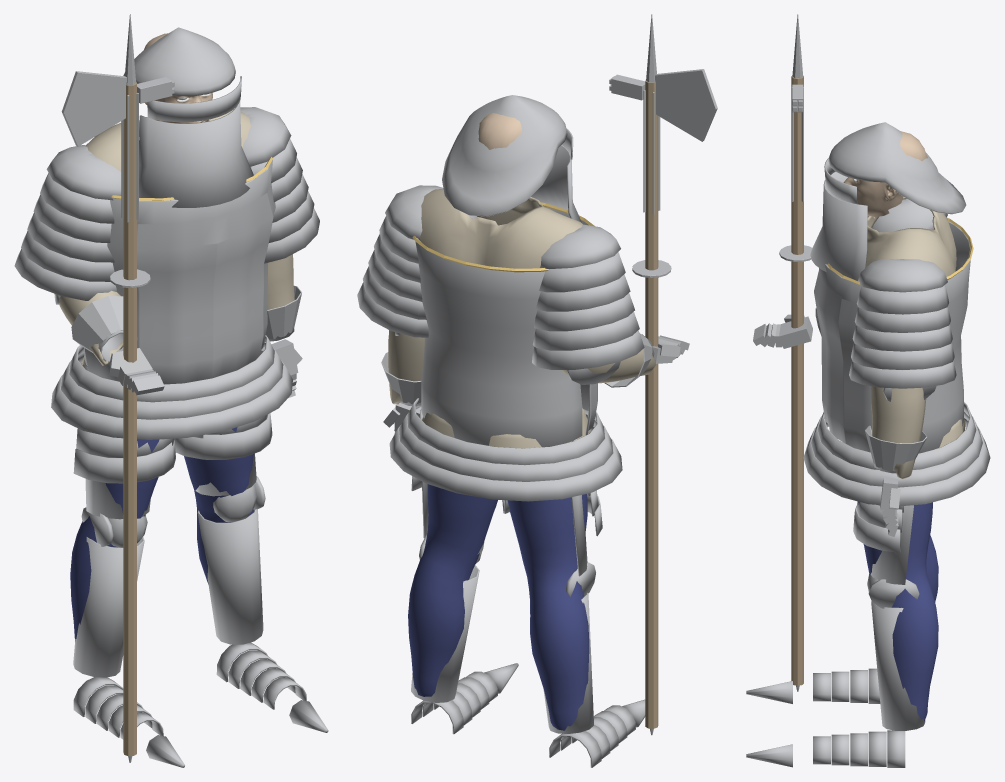
Rendered from SM_English_Tier5.fbx.
3 views of the same model, side by side, from view 1: azimuth 30°, elevation 25°; view 2: azimuth 150°, elevation 25°; view 3: azimuth 270°, elevation 25° (orthographic). The views are drawn at different scales.
Visible parts, largest first — view 1: Fluted Breastplate, Gothic Leg Harness, Fauld & Tassets, Fluted Arm Harness, Bevor, Poleaxe Haft, Sallet with Visor, Poleaxe Head, Languets & Rondel, Hose.001, Articulated Gauntlets, Arming Doublet.001, Tier 5 Soldier; view 2: Fluted Breastplate, Hose.001, Fluted Arm Harness, Fauld & Tassets, Arming Doublet.001, Gothic Leg Harness, Sallet with Visor, Poleaxe Haft, Poleaxe Head, Languets & Rondel, Articulated Gauntlets, Bevor, Tier 5 Soldier (+1 smaller); view 3: Fluted Arm Harness, Gothic Leg Harness, Fluted Breastplate, Fauld & Tassets, Poleaxe Haft, Hose.001, Sallet with Visor, Arming Doublet.001, Bevor, Articulated Gauntlets, Tier 5 Soldier, Poleaxe Head, Languets & Rondel.
Part boxes in pixels (bbox=[...]): Fluted Breastplate: bbox=[84, 160, 275, 384]; Gothic Leg Harness: bbox=[73, 364, 328, 767]; Fauld & Tassets: bbox=[51, 335, 292, 483]; Fluted Arm Harness: bbox=[14, 107, 319, 362]; Bevor: bbox=[139, 101, 253, 207]; Poleaxe Haft: bbox=[123, 81, 136, 756]; Sallet with Visor: bbox=[123, 27, 241, 122]; Poleaxe Head, Languets & Rondel: bbox=[61, 14, 174, 762]; Hose.001: bbox=[70, 427, 254, 641]; Articulated Gauntlets: bbox=[71, 285, 302, 398]; Arming Doublet.001: bbox=[55, 109, 294, 376]; Tier 5 Soldier: bbox=[144, 33, 212, 123]; Fluted Breastplate: bbox=[415, 206, 597, 447]; Hose.001: bbox=[408, 484, 589, 730]; Fluted Arm Harness: bbox=[357, 185, 654, 405]; Fauld & Tassets: bbox=[389, 398, 622, 536]; Arming Doublet.001: bbox=[388, 188, 656, 448]; Gothic Leg Harness: bbox=[411, 409, 645, 767]; Sallet with Visor: bbox=[442, 95, 573, 216]; Poleaxe Haft: bbox=[645, 80, 658, 728]; Poleaxe Head, Languets & Rondel: bbox=[609, 14, 717, 735]; Articulated Gauntlets: bbox=[381, 333, 689, 433]; Bevor: bbox=[531, 145, 581, 222]; Tier 5 Soldier: bbox=[478, 113, 521, 149]; Fluted Arm Harness: bbox=[815, 199, 956, 473]; Gothic Leg Harness: bbox=[746, 505, 925, 767]; Fluted Breastplate: bbox=[814, 221, 970, 453]; Fauld & Tassets: bbox=[803, 402, 990, 552]; Poleaxe Haft: bbox=[791, 76, 803, 685]; Hose.001: bbox=[858, 501, 938, 721]; Sallet with Visor: bbox=[824, 122, 966, 214]; Arming Doublet.001: bbox=[857, 197, 965, 479]; Bevor: bbox=[810, 171, 867, 280]; Articulated Gauntlets: bbox=[753, 314, 927, 536]; Tier 5 Soldier: bbox=[843, 131, 927, 218]; Poleaxe Head, Languets & Rondel: bbox=[779, 14, 812, 691].
Size of the model in its own units: 0.8644 by 0.656 by 2.01.
